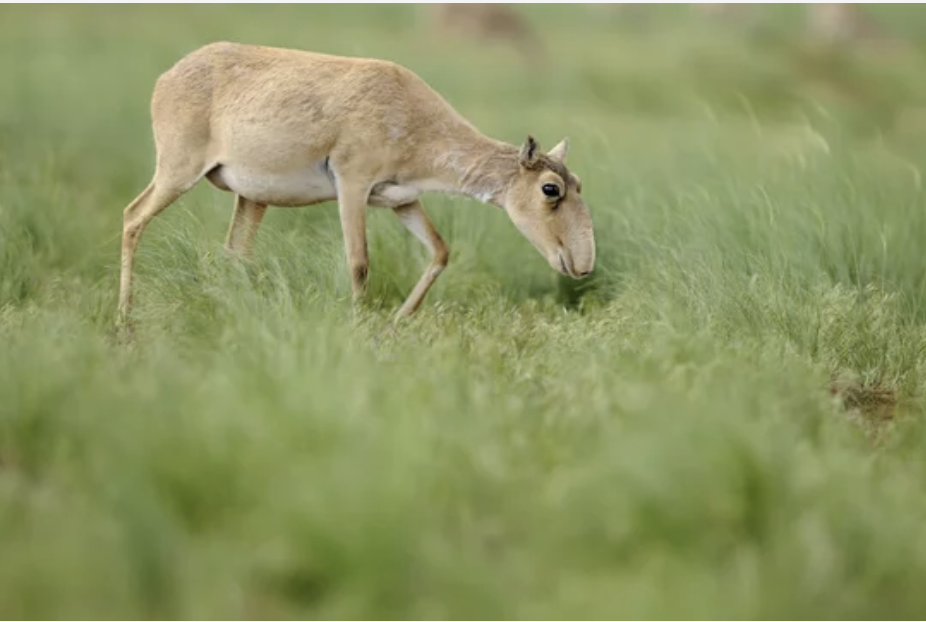saiga: (112, 31, 600, 374)
